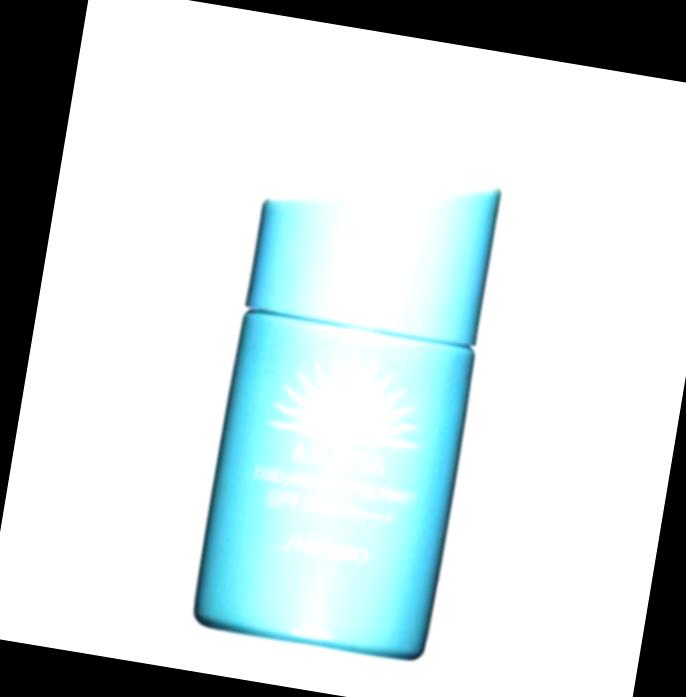cosmetic: (190, 145, 508, 665)
